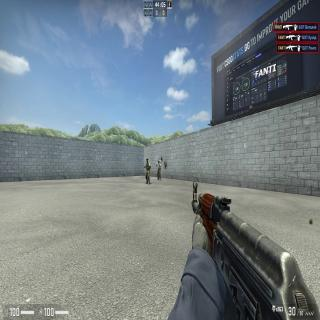CT-Body: (145, 158, 151, 185)
CT-Head: (146, 158, 148, 162)
T-Body: (158, 161, 160, 179)
T-Head: (158, 160, 160, 163)
